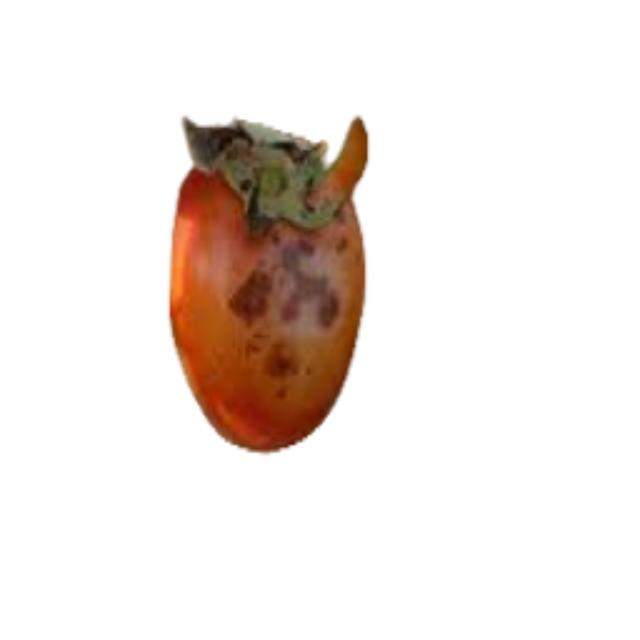defect: (156, 103, 377, 458)
